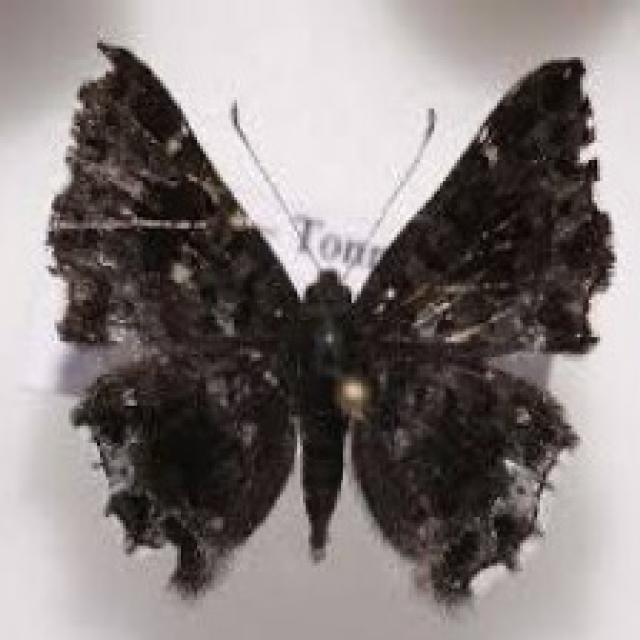butterfly: (40, 37, 617, 609)
